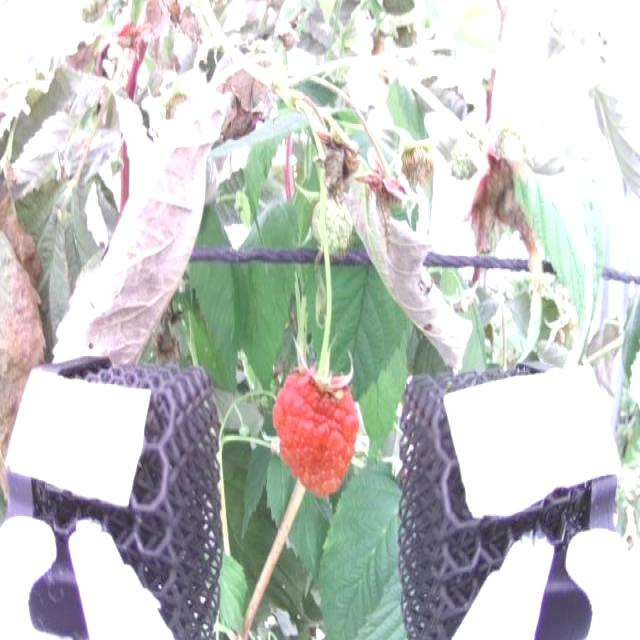Riped berries: (270, 369, 364, 498)
